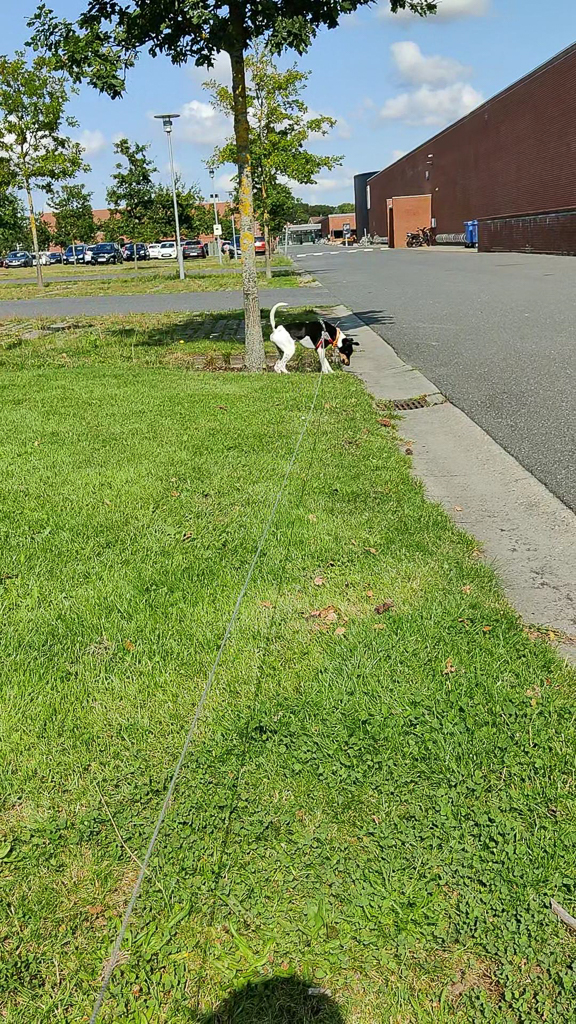Dog: (264, 296, 362, 378)
